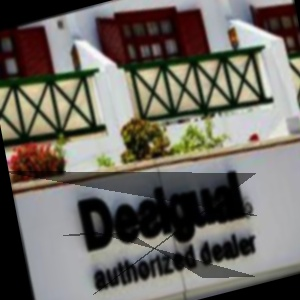desigual: (202, 56, 285, 245)
